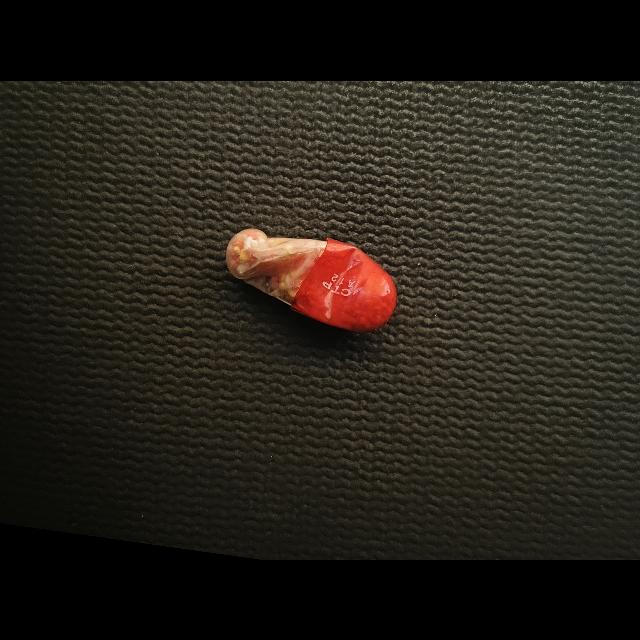Defective Capsule: (226, 227, 397, 331)
